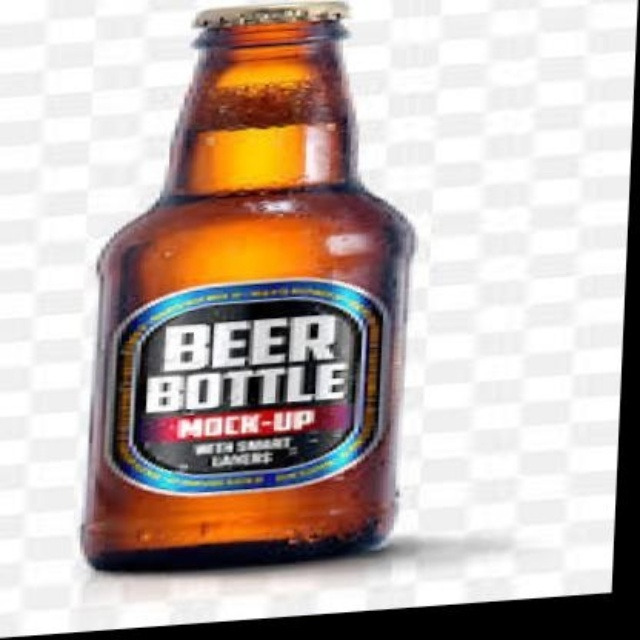trash: (83, 3, 412, 568)
